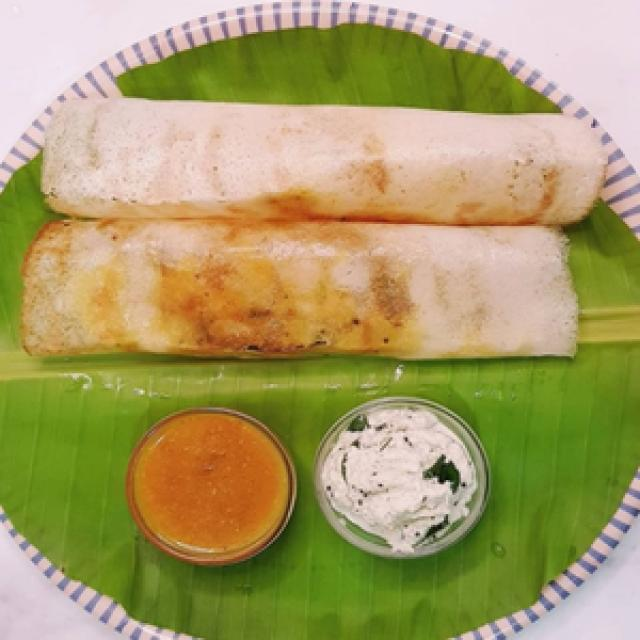dosa: (12, 204, 596, 373), (35, 84, 612, 234)
